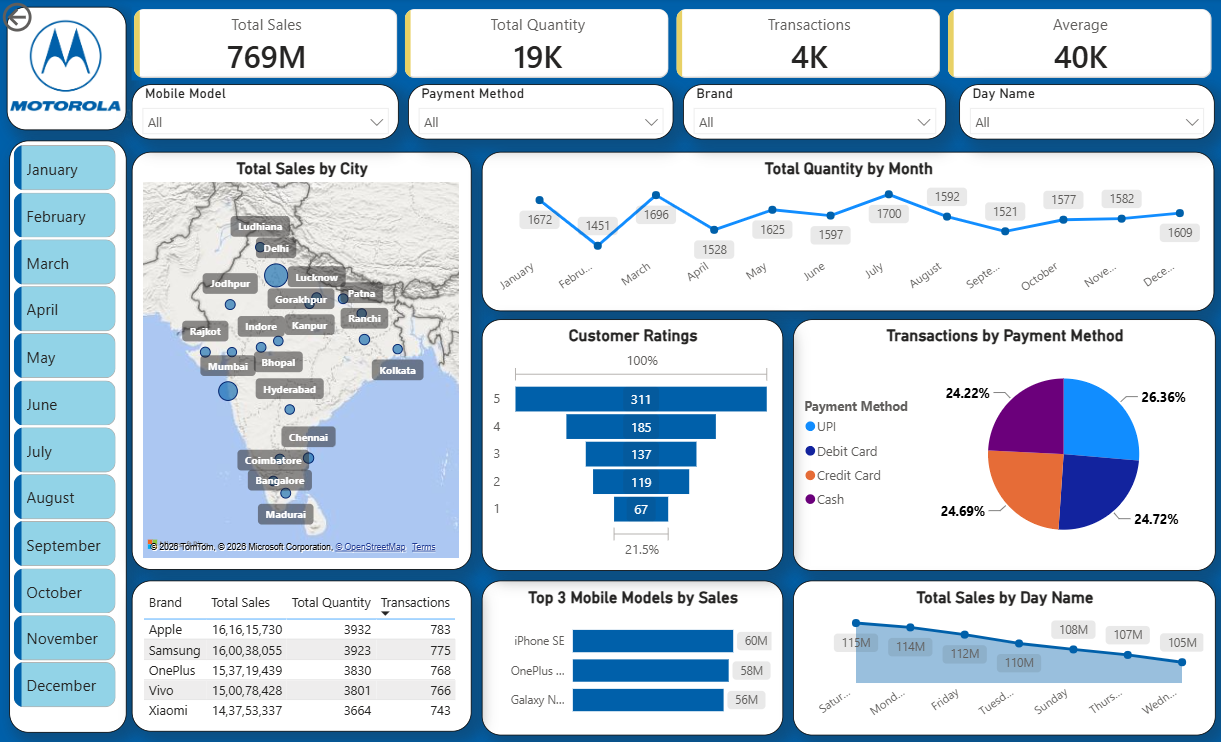

The dashboard page shown, as its layout file describes it:
{"tool":"powerbi","page":{"name":"Page 1","canvas":[1280,778],"ordinal":0},"visuals":[{"type":"image","box":[17.8,15.1,122.1,123.5],"z":0},{"type":"shape","box":[9.6,9.6,124.9,129],"z":1000},{"type":"shape","box":[12.3,148.2,122.1,617.5],"z":2000},{"type":"image","box":[12.3,9.6,116.6,122.1],"z":3000},{"type":"advancedSlicerVisual","fields":{"Values":["Mobile_Sales_Data.Date.Variation.Date Hierarchy.Month"]},"box":[12.3,148.2,116.6,607.9],"z":4000},{"type":"cardVisual","fields":{"Data":["Mobile_Sales_Data.Total Sales","Mobile_Sales_Data.Total Quantity","Mobile_Sales_Data.Transactions","Mobile_Sales_Data.Average"]},"box":[140,9.6,1129.3,76.8],"z":5000},{"type":"map","fields":{"Category":["Mobile_Sales_Data.City"],"Size":["Mobile_Sales_Data.Total Sales"]},"box":[140,160.5,354,436.4],"z":6000},{"type":"lineChart","fields":{"Category":["Mobile_Sales_Data.Date.Variation.Date Hierarchy.Month","Mobile_Sales_Data.Date.Variation.Date Hierarchy.Day"],"Y":["Mobile_Sales_Data.Total Quantity"]},"box":[505,160.5,764.3,166],"z":7000},{"type":"clusteredBarChart","title":"Top 3 Mobile Models by Sales","fields":{"Category":["Mobile_Sales_Data.Mobile Model"],"Y":["Mobile_Sales_Data.Total Sales"]},"box":[505,607.9,314.2,161.9],"z":8000},{"type":"pieChart","title":"Transactions by Payment Method","fields":{"Y":["Mobile_Sales_Data.Transactions"],"Category":["Mobile_Sales_Data.Payment Method"]},"box":[828.8,334.8,440.5,262.1],"z":9000},{"type":"funnel","title":"Customer Ratings","fields":{"Category":["Mobile_Sales_Data.Customer Ratings"],"Y":["CountNonNull(Mobile_Sales_Data.Customer Ratings)"]},"box":[505,334.8,314.2,262.1],"z":10000},{"type":"tableEx","fields":{"Values":["Mobile_Sales_Data.Brand","Mobile_Sales_Data.Total Sales","Mobile_Sales_Data.Total Quantity","Mobile_Sales_Data.Transactions"]},"box":[140,607.9,354,157.8],"z":11000},{"type":"areaChart","fields":{"Category":["Mobile_Sales_Data.Day Name"],"Y":["Mobile_Sales_Data.Total Sales"]},"box":[828.8,607.9,440.5,161.9],"z":11001},{"type":"actionButton","box":[0,0,100,40],"z":11002},{"type":"slicer","fields":{"Values":["Mobile_Sales_Data.Mobile Model"]},"box":[140,90.6,278.6,57.6],"z":11003},{"type":"slicer","fields":{"Values":["Mobile_Sales_Data.Payment Method"]},"box":[428.1,90.6,277.2,57.6],"z":11004},{"type":"slicer","fields":{"Values":["Mobile_Sales_Data.Brand"]},"box":[714.9,90.6,274.4,57.6],"z":11005},{"type":"slicer","fields":{"Values":["Mobile_Sales_Data.Day Name"]},"box":[1003.1,90.6,266.2,57.6],"z":11006}]}

Visuals, with their boxes in screenshot pixels (x1, y1, x2, y2), scaled from the page's 1280x778 canvas onto the 1221x742 screenshot:
image: [left=17, top=14, right=133, bottom=132]
shape: [left=9, top=9, right=128, bottom=132]
shape: [left=12, top=141, right=128, bottom=730]
image: [left=12, top=9, right=123, bottom=126]
advancedSlicerVisual - Mobile_Sales_Data.Date.Variation.Date Hierarchy.Month: [left=12, top=141, right=123, bottom=721]
cardVisual - Mobile_Sales_Data.Total Sales x Mobile_Sales_Data.Total Quantity: [left=134, top=9, right=1211, bottom=82]
map - Mobile_Sales_Data.City x Mobile_Sales_Data.Total Sales: [left=134, top=153, right=471, bottom=569]
lineChart - Mobile_Sales_Data.Date.Variation.Date Hierarchy.Month x Mobile_Sales_Data.Date.Variation.Date Hierarchy.Day: [left=482, top=153, right=1211, bottom=311]
"Top 3 Mobile Models by Sales" clusteredBarChart: [left=482, top=580, right=781, bottom=734]
"Transactions by Payment Method" pieChart: [left=791, top=319, right=1211, bottom=569]
"Customer Ratings" funnel: [left=482, top=319, right=781, bottom=569]
tableEx - Mobile_Sales_Data.Brand x Mobile_Sales_Data.Total Sales: [left=134, top=580, right=471, bottom=730]
areaChart - Mobile_Sales_Data.Day Name x Mobile_Sales_Data.Total Sales: [left=791, top=580, right=1211, bottom=734]
actionButton: [left=0, top=0, right=95, bottom=38]
slicer - Mobile_Sales_Data.Mobile Model: [left=134, top=86, right=399, bottom=141]
slicer - Mobile_Sales_Data.Payment Method: [left=408, top=86, right=673, bottom=141]
slicer - Mobile_Sales_Data.Brand: [left=682, top=86, right=944, bottom=141]
slicer - Mobile_Sales_Data.Day Name: [left=957, top=86, right=1211, bottom=141]
